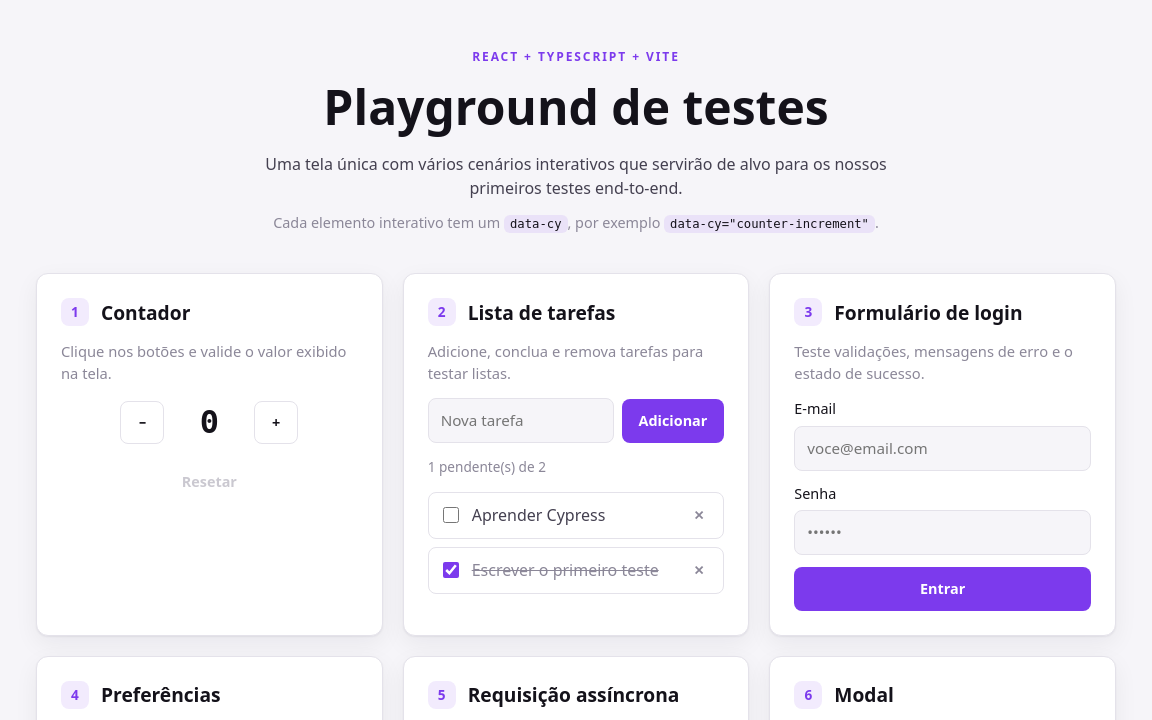
Test: Contador › incrementa ao clicar no botão
The image size is (1152, 720).
Expected: the text "0" is shown, [200,403,219,441]
Click the button "+" at (276, 423), box [254,401,298,445]
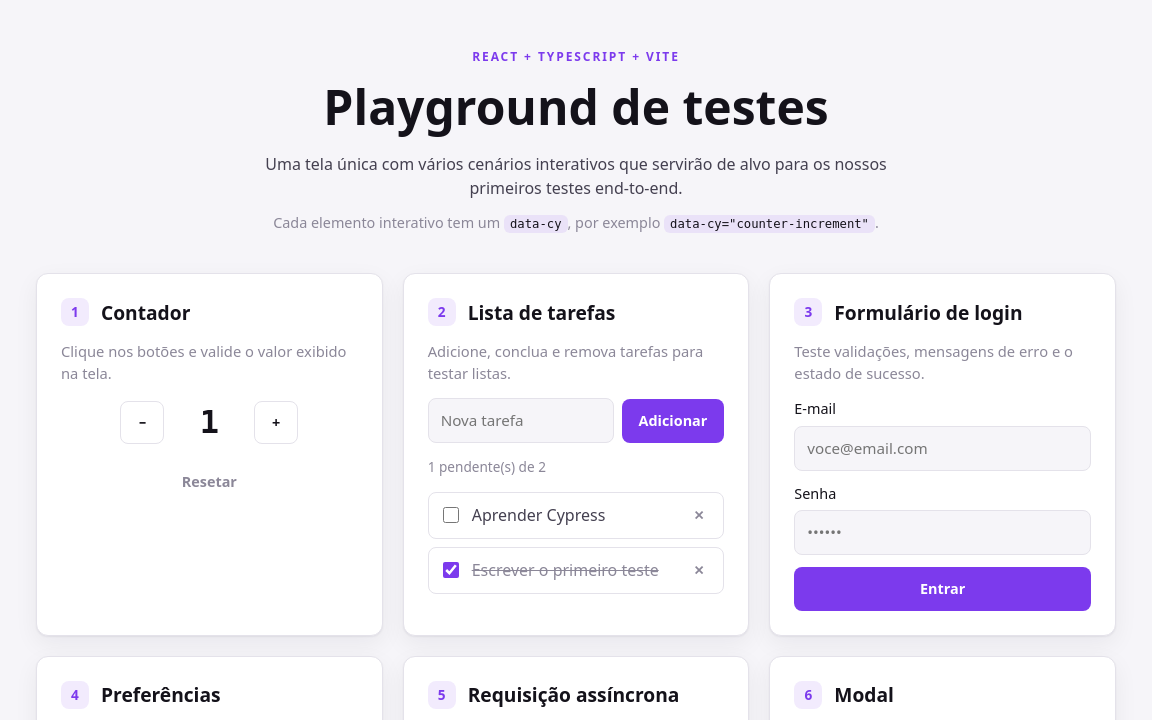
Expected: the 2nd text "1" is shown, [200,403,219,441]
